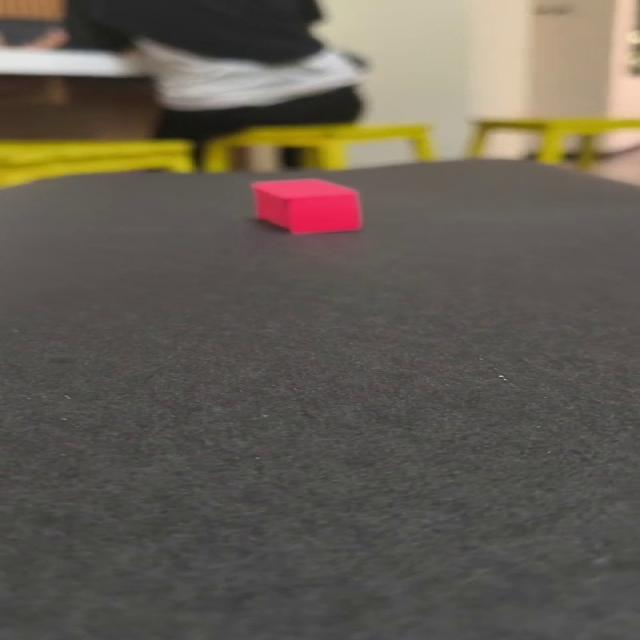red block: (249, 177, 363, 234)
